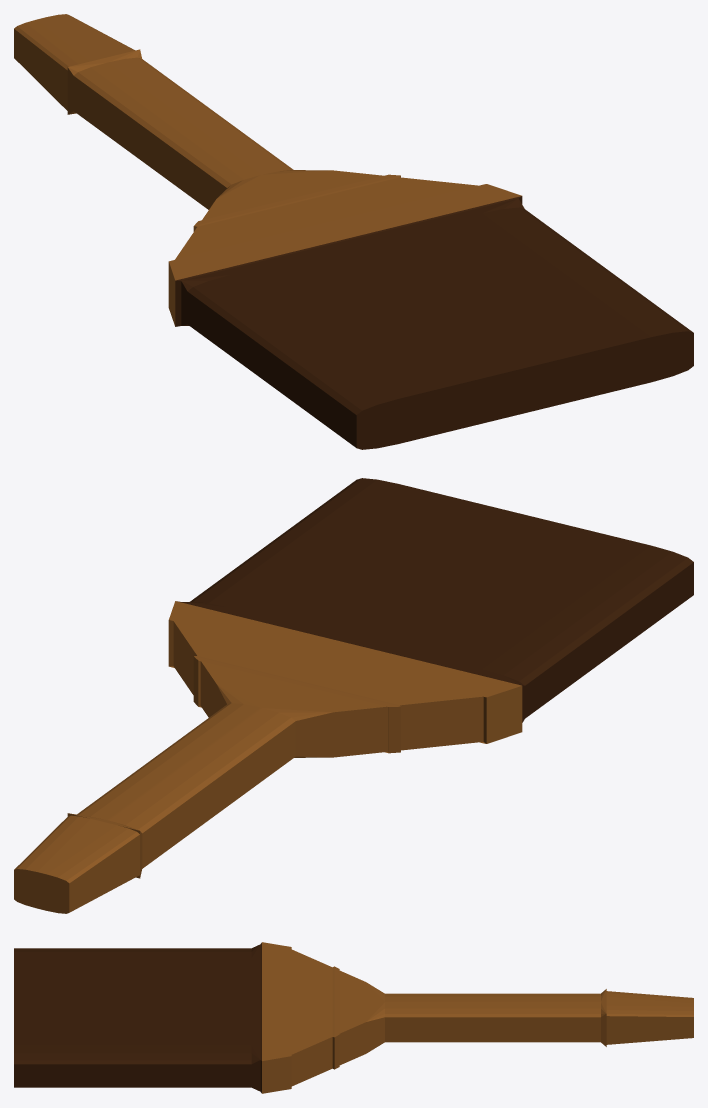
Rendered from brush.fbx.
3 renders of one model, top to bottom at view 1: azimuth 30°, elevation 25°; view 2: azimuth 150°, elevation 25°; view 3: azimuth 270°, elevation 25°, orthographic. The views are drawn at different scales.
Parts seen in each view (by area): view 1: Cube.001, Cube; view 2: Cube.001, Cube; view 3: Cube.001, Cube.
Part boxes in pixels (x1,y1,x2,y2): Cube.001: (175,196,693,449); Cube: (14,14,521,326); Cube.001: (177,478,693,722); Cube: (14,601,522,913); Cube.001: (14,942,261,1093); Cube: (262,942,693,1093).
Size of the model in its own units: 224 by 29.46 by 540.
